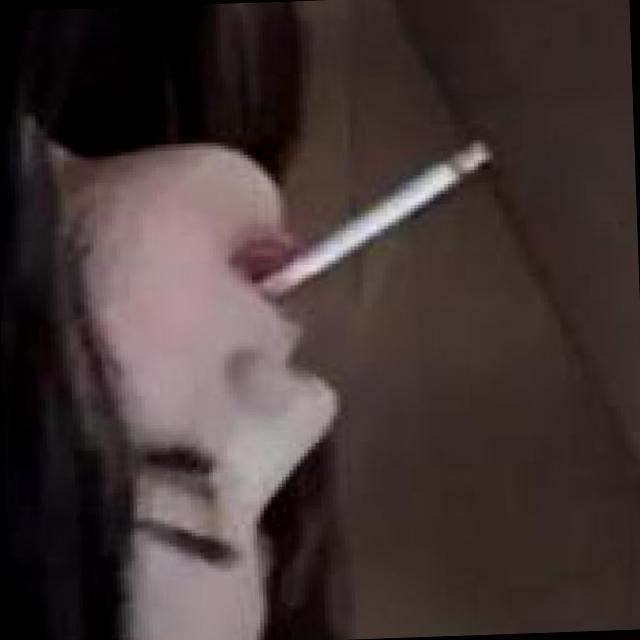smoke: (260, 139, 499, 300)
